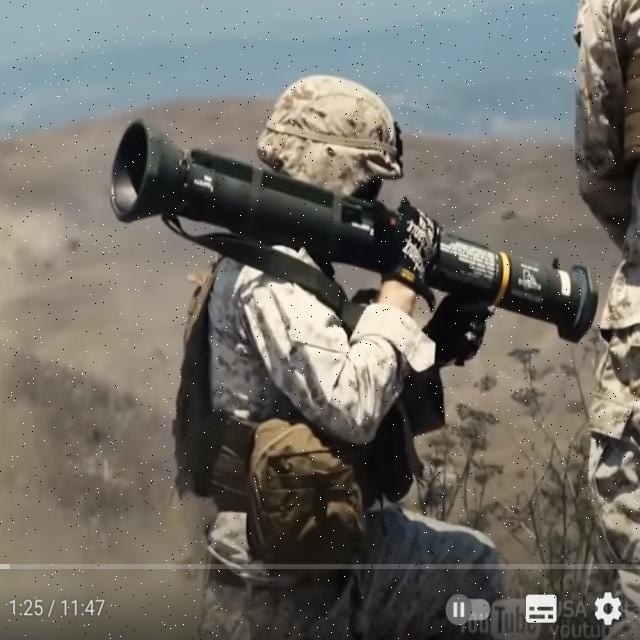bazooka: (90, 92, 611, 379)
